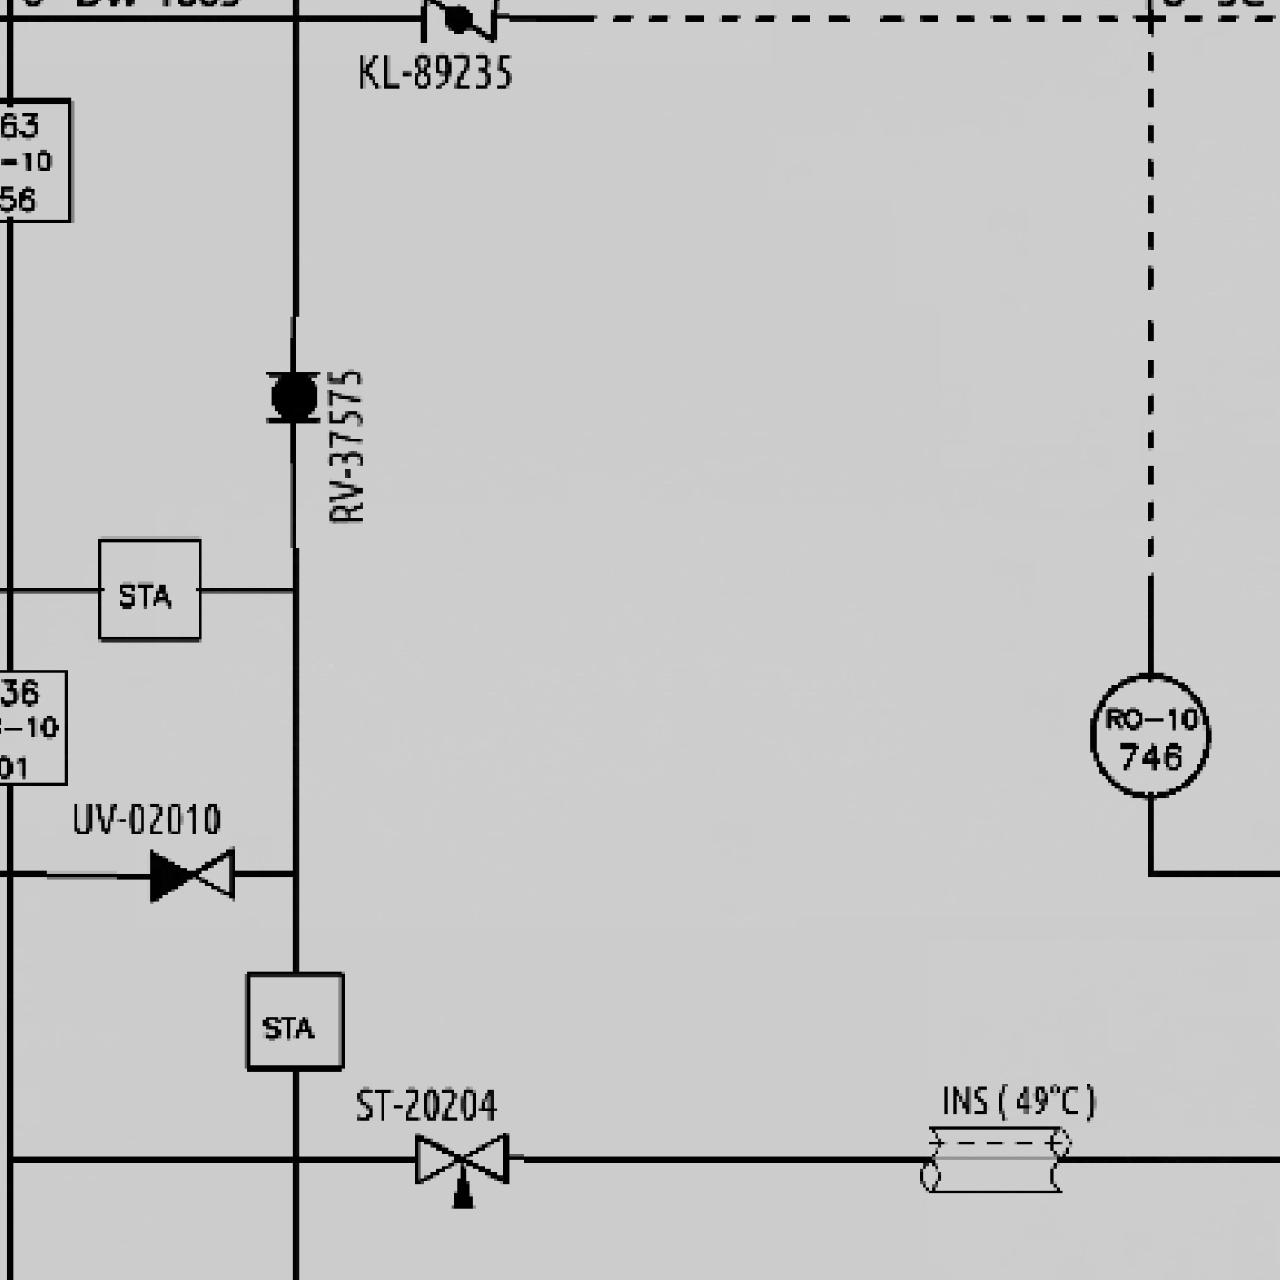Control-Panel: (1082, 668, 1216, 802)
Half closed valve: (144, 842, 239, 905)
